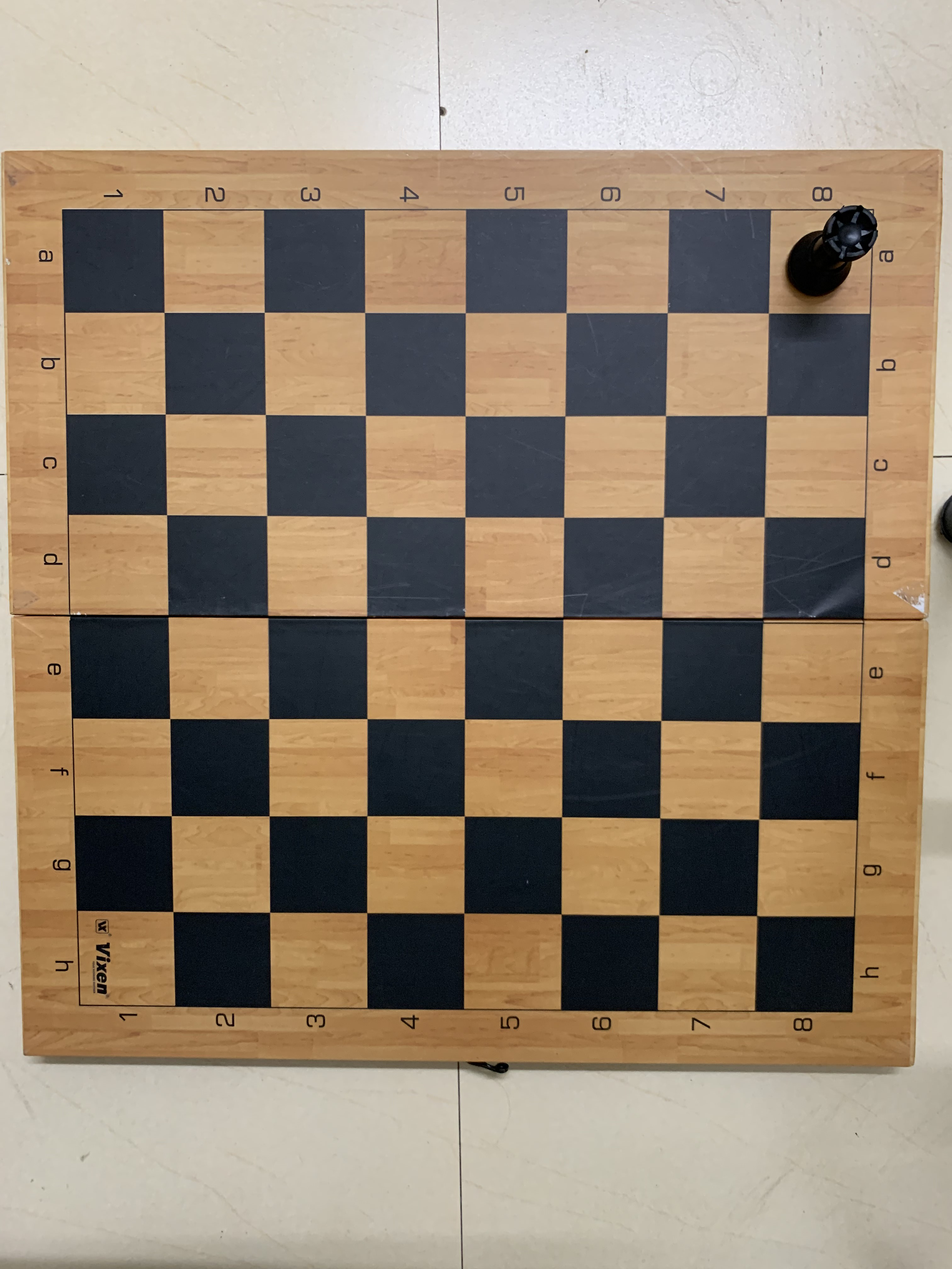black_rook: (774, 199, 886, 300)
